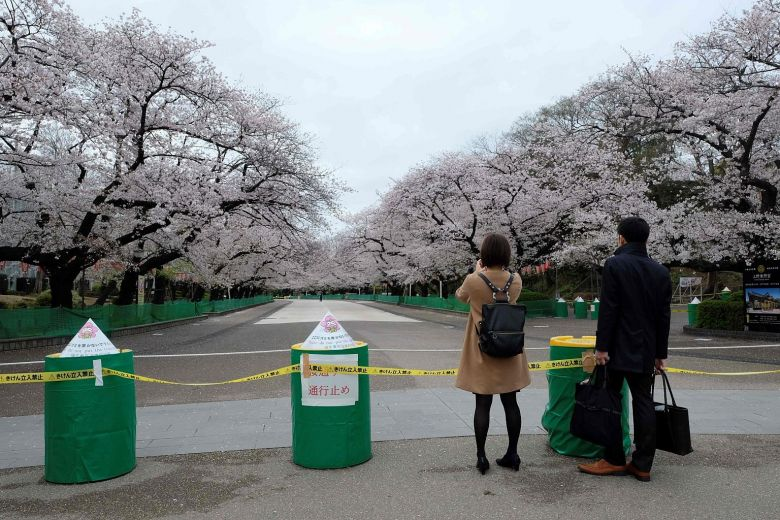Person: (579, 217, 672, 480), (456, 235, 530, 475)
